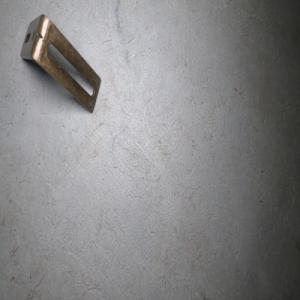MetalPart: (19, 12, 102, 114)
